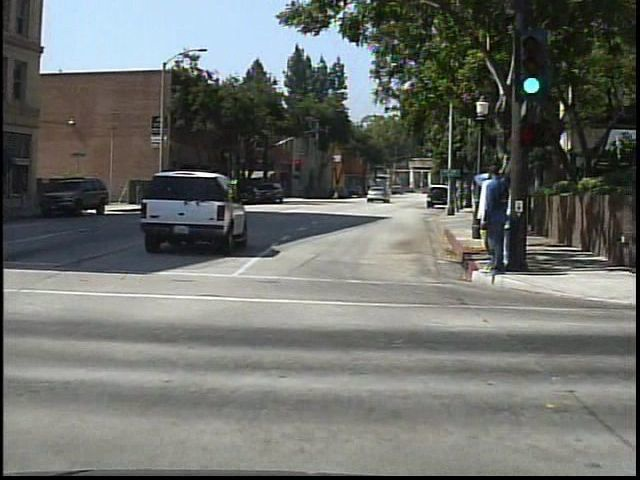person: (470, 168, 502, 277), (481, 162, 508, 278), (330, 184, 341, 201)
